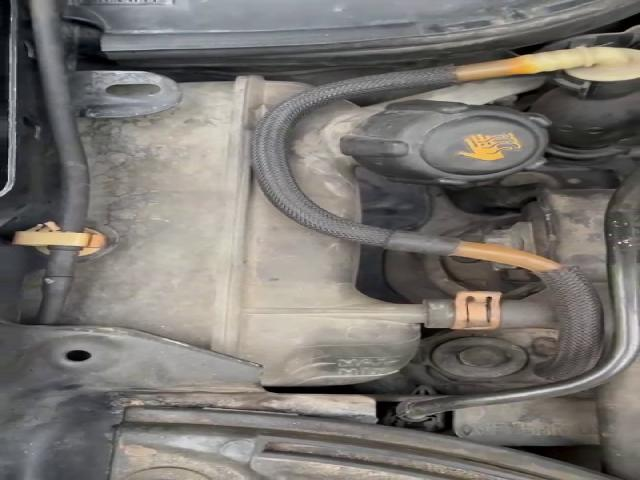antifreeze_tank: (71, 77, 459, 385), (289, 101, 548, 220)
